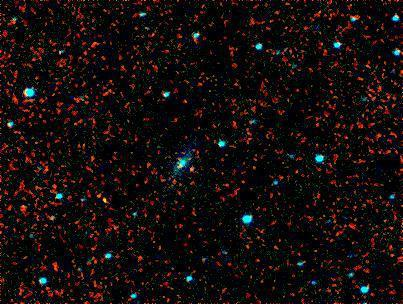star: (82, 188, 112, 218)
